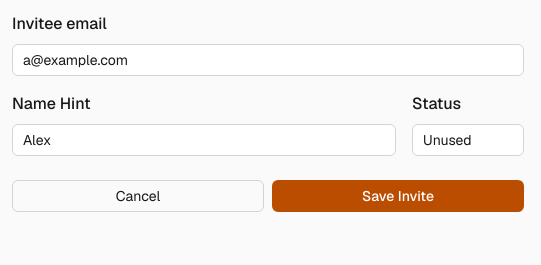
Test: pool components › should show InviteForm network errors
Click the button "Save Invite": (398,196) x1=272 y1=180 x2=524 y2=212
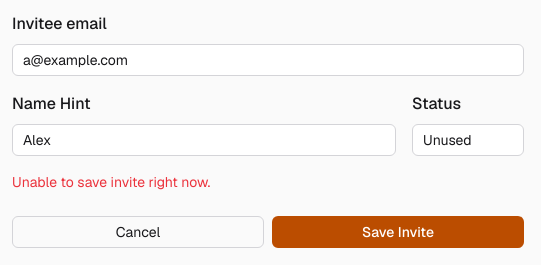
Now the message reads "Unable to save invite right now.", box x1=12 y1=173 x2=210 y2=191
